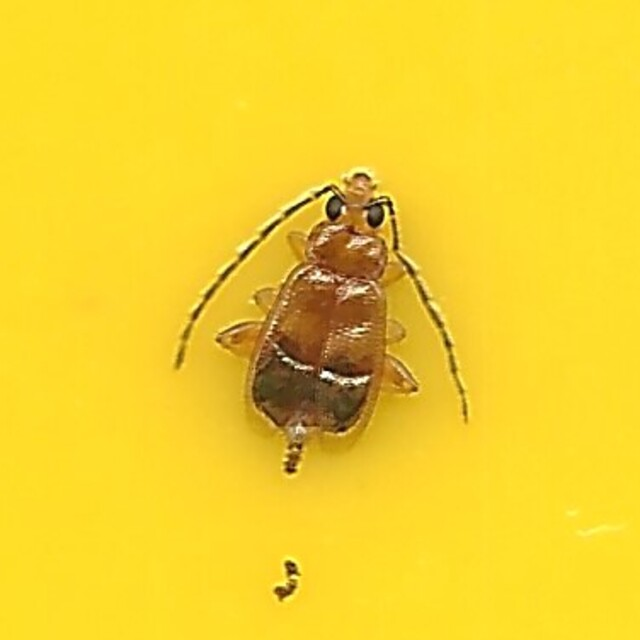Coleoptera: (170, 173, 470, 467)
